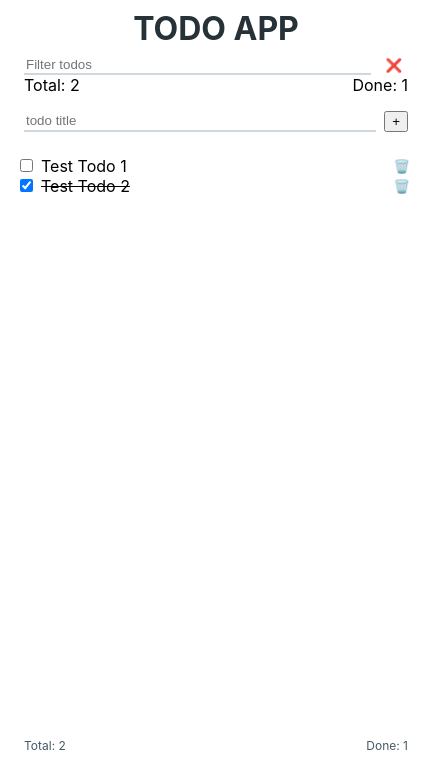
Test: App Component › filters todos based on filter text
In the field with placeholder "Filter todos": {"x": 198, "y": 66} [24,56,371,75], type "Test Todo 1"
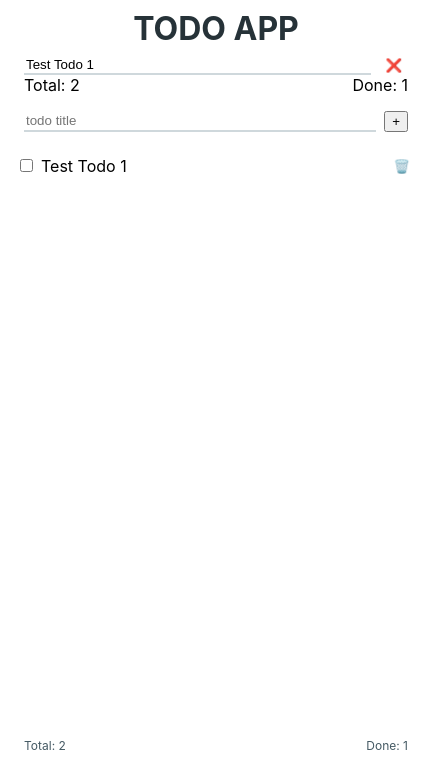
Expected: the text "Test Todo 1" is shown, [41,156,127,176]
Expected: the number of list items is 1, [16,156,416,176]
